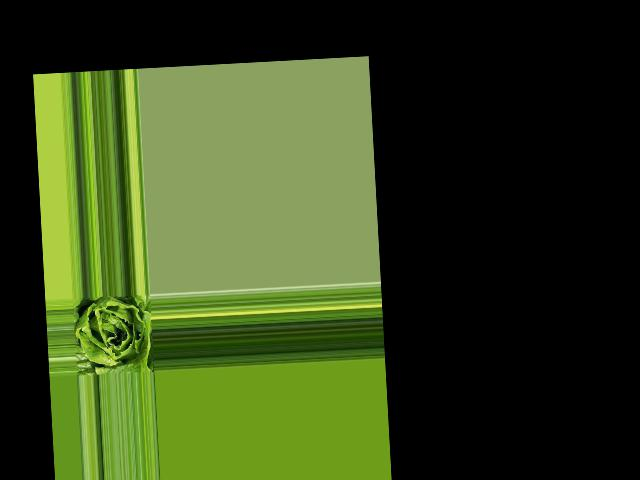lettuce: (73, 295, 153, 376)
